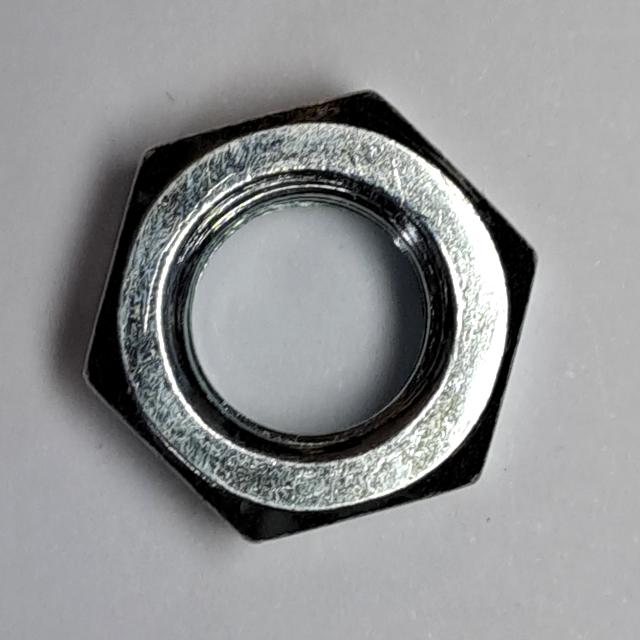Excellent: (70, 81, 545, 554)
